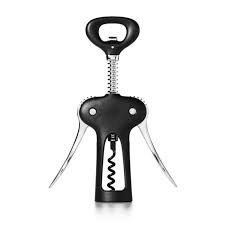bottleopener: (48, 16, 178, 207)
